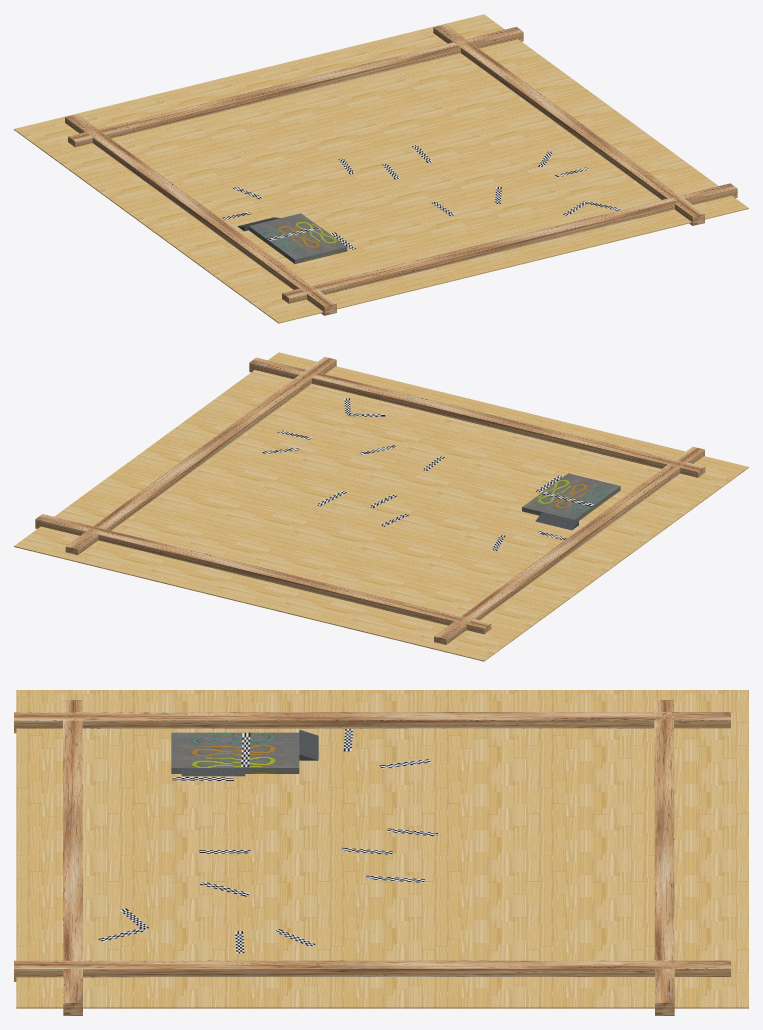
Rendered from CircuitoV2012Vacio.DAE.
3 renders of one model, top to bottom at view 1: azimuth 30°, elevation 25°; view 2: azimuth 150°, elevation 25°; view 3: azimuth 270°, elevation 25°, orthographic. The views are drawn at different scales.
Parts seen in each view (by area): view 1: Box_Suelo, Box_Lateral_Pared004, Box_Lateral_Pared003, Box_Lateral_Pared002, Box_Lateral_Pared001, Box_Lateral_005; view 2: Box_Suelo, Box_Lateral_Pared004, Box_Lateral_Pared003, Box_Lateral_Pared002, Box_Lateral_Pared001, Box_Lateral_005; view 3: Box_Suelo, Box_Lateral_Pared001, Box_Lateral_Pared002, Box_Lateral_Pared003, Box_Lateral_Pared004, Box_Lateral_005, Mesh_Rampa002, Mesh_Rampa01.
Boxes of the visible parts, x1,y1,x2,y2 form: Box_Suelo: (14,14,748,323); Box_Lateral_Pared004: (282,183,737,303); Box_Lateral_Pared003: (68,27,523,147); Box_Lateral_Pared002: (65,114,336,315); Box_Lateral_Pared001: (433,24,704,225); Box_Lateral_005: (248,213,347,263); Box_Suelo: (14,352,748,661); Box_Lateral_Pared004: (249,357,705,477); Box_Lateral_Pared003: (35,514,491,634); Box_Lateral_Pared002: (434,446,704,644); Box_Lateral_Pared001: (65,357,336,555); Box_Lateral_005: (522,473,620,520); Box_Suelo: (16,690,748,1008); Box_Lateral_Pared001: (14,960,730,981); Box_Lateral_Pared002: (14,712,730,733); Box_Lateral_Pared003: (654,700,674,1015); Box_Lateral_Pared004: (62,700,82,1015); Box_Lateral_005: (171,732,299,773); Mesh_Rampa002: (181,768,245,776); Mesh_Rampa01: (299,730,318,760).
Size of the model in its own units: 298 by 288 by 17.57.
Materials: 5 (5 with a texture image).
